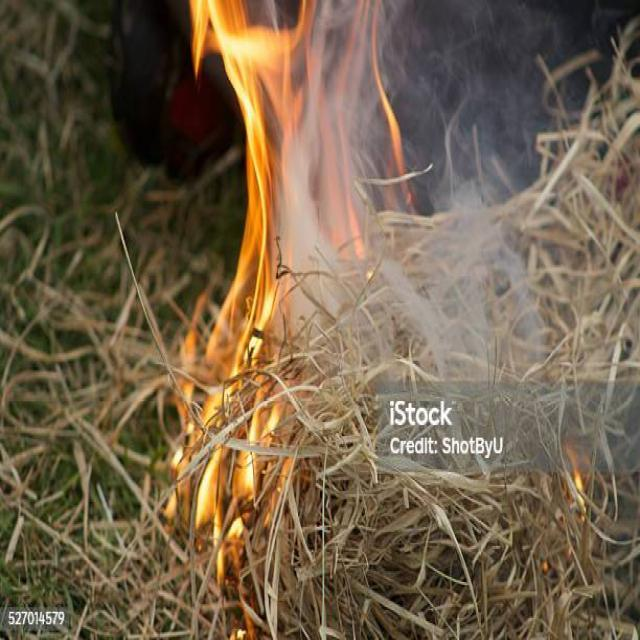Fire: (170, 2, 306, 621)
Smoke: (302, 0, 556, 408)
